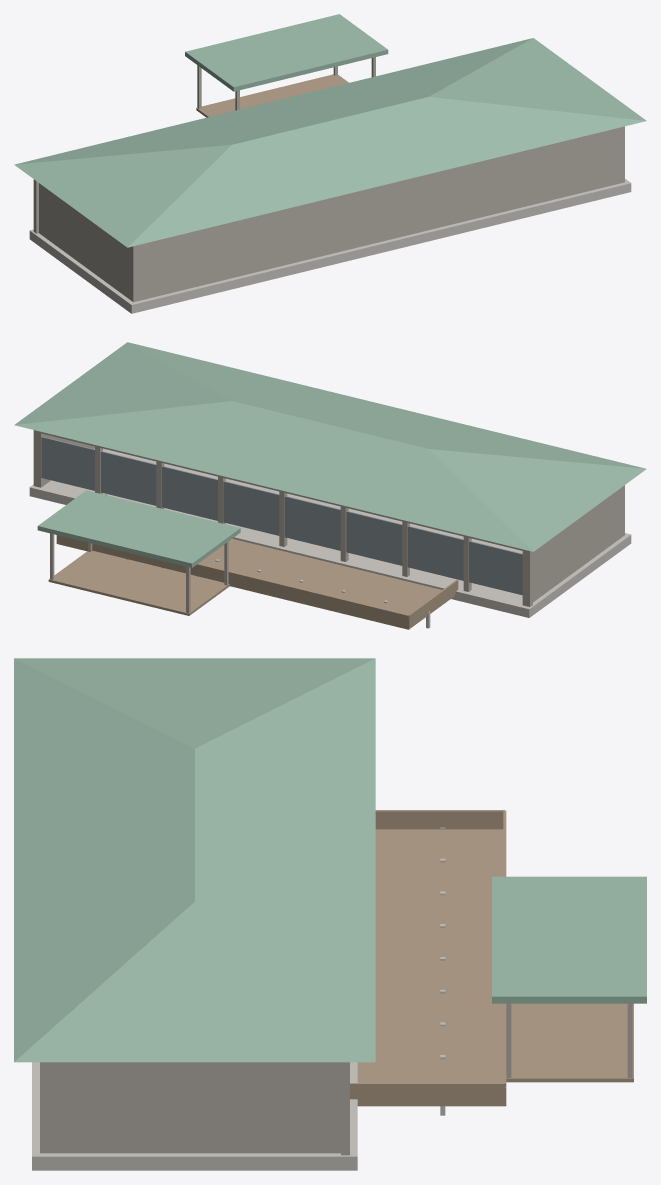
Rendered from cp_boathouse.glb.
The picture shows the model from 3 angles, top to bottom: view 1: azimuth 30°, elevation 25°; view 2: azimuth 150°, elevation 25°; view 3: azimuth 270°, elevation 25°; orthographic projection. The views are drawn at different scales.
Parts seen in each view (by area): view 1: LoebBoathouse; view 2: LoebBoathouse; view 3: LoebBoathouse.
Boxes of the visible parts, left/top/right/bottom form: LoebBoathouse: left=14, top=14, right=646, bottom=313; LoebBoathouse: left=14, top=342, right=646, bottom=629; LoebBoathouse: left=14, top=658, right=646, bottom=1170.
Bounding box in the file's own units: 37 × 7 × 24.5.
